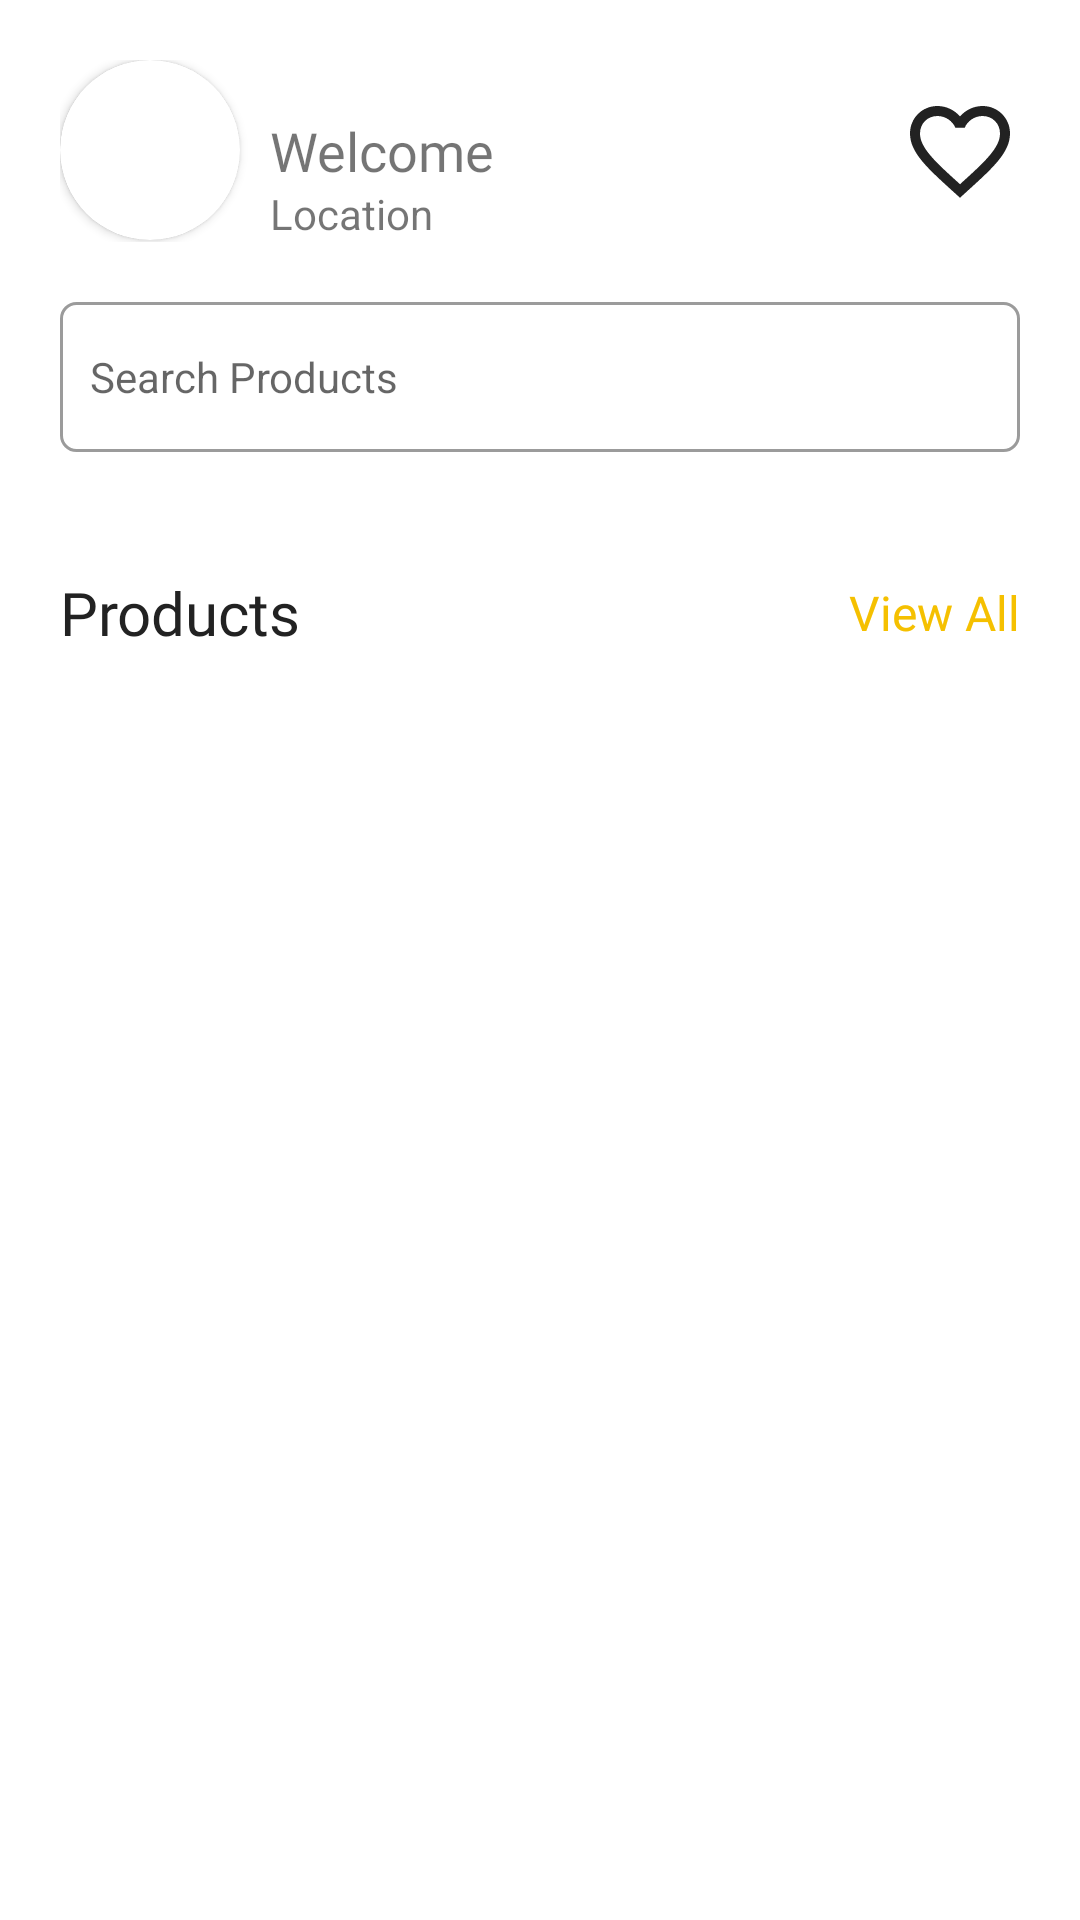

Where icons sit on this 1080 × 1920 app screen, as (x1, y1, x2, y2):
favorite: (910, 106, 1010, 198)
